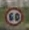limite 60: (3, 6, 23, 26)
